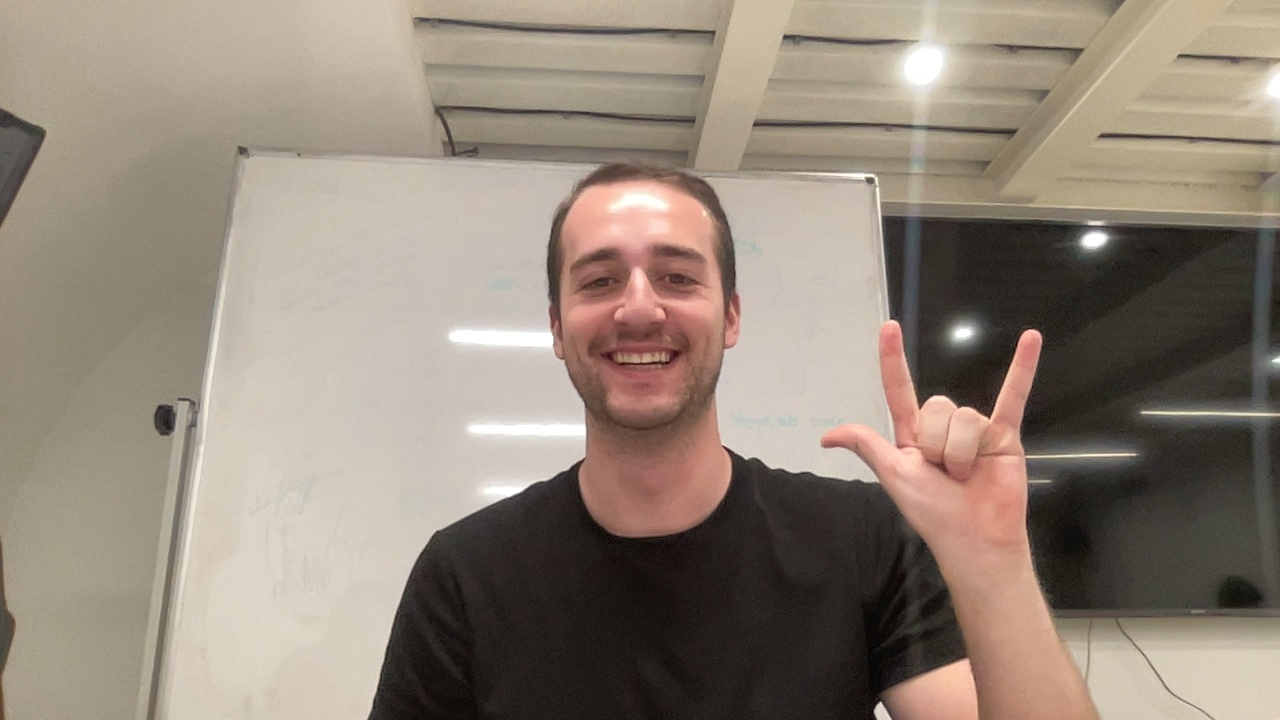I Love You: (811, 309, 1071, 564)
